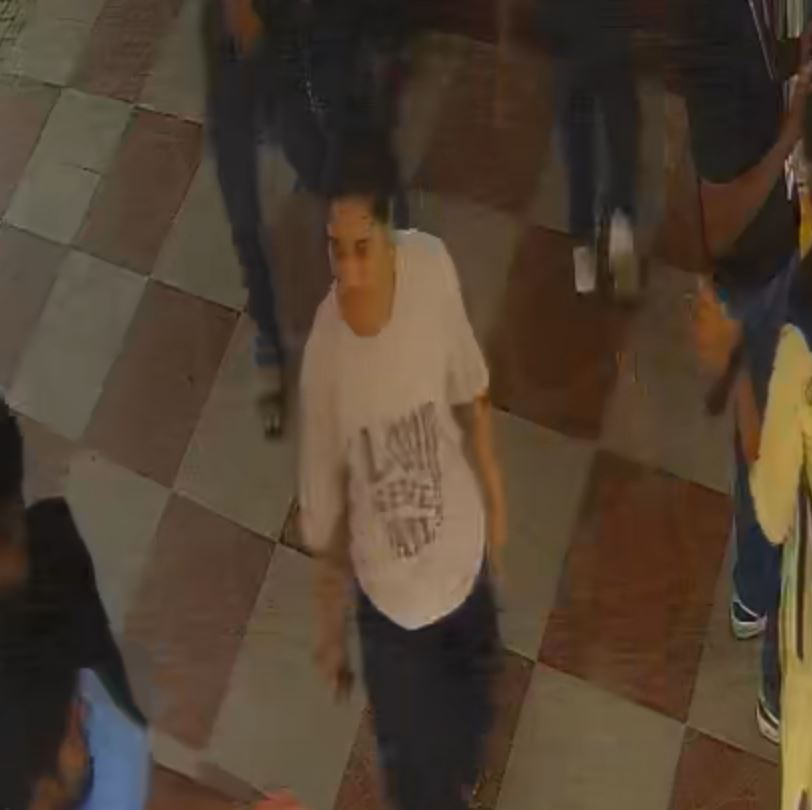intruder: (283, 149, 528, 810)
